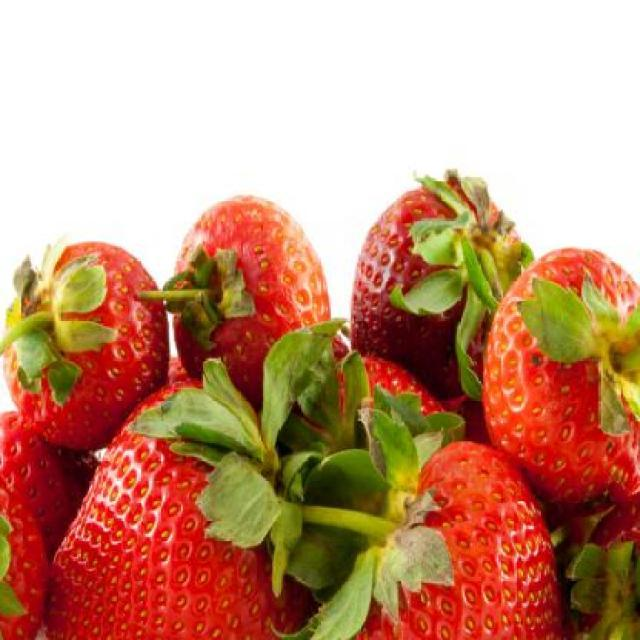Strawberry: (0, 187, 640, 640), (352, 170, 532, 398), (18, 250, 158, 467)
